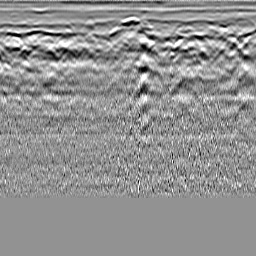cavity: (120, 15, 140, 30)
